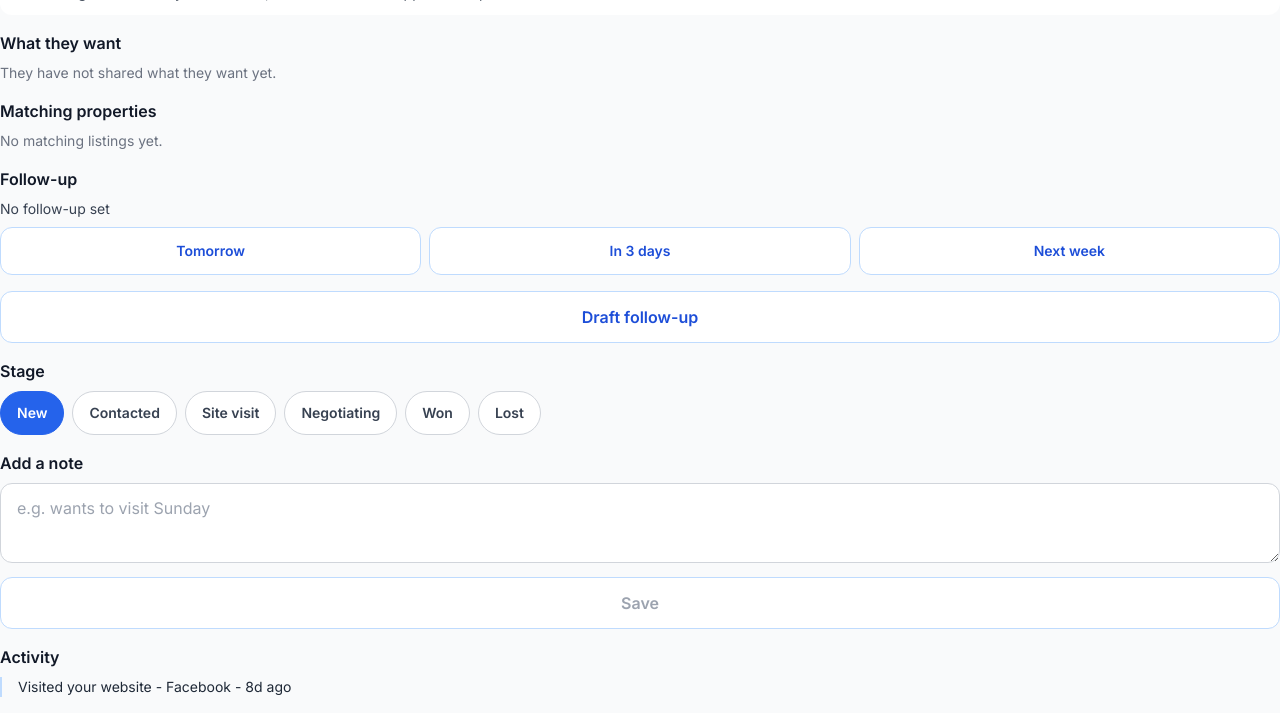
Test case: Why was it lost? sheet (stage Lost) › dismissing does not change the stage
This screenshot has width=1280, height=713.
(page scrolled)
Click the button "Lost". click: [509, 413]
box: [478,391,541,435]
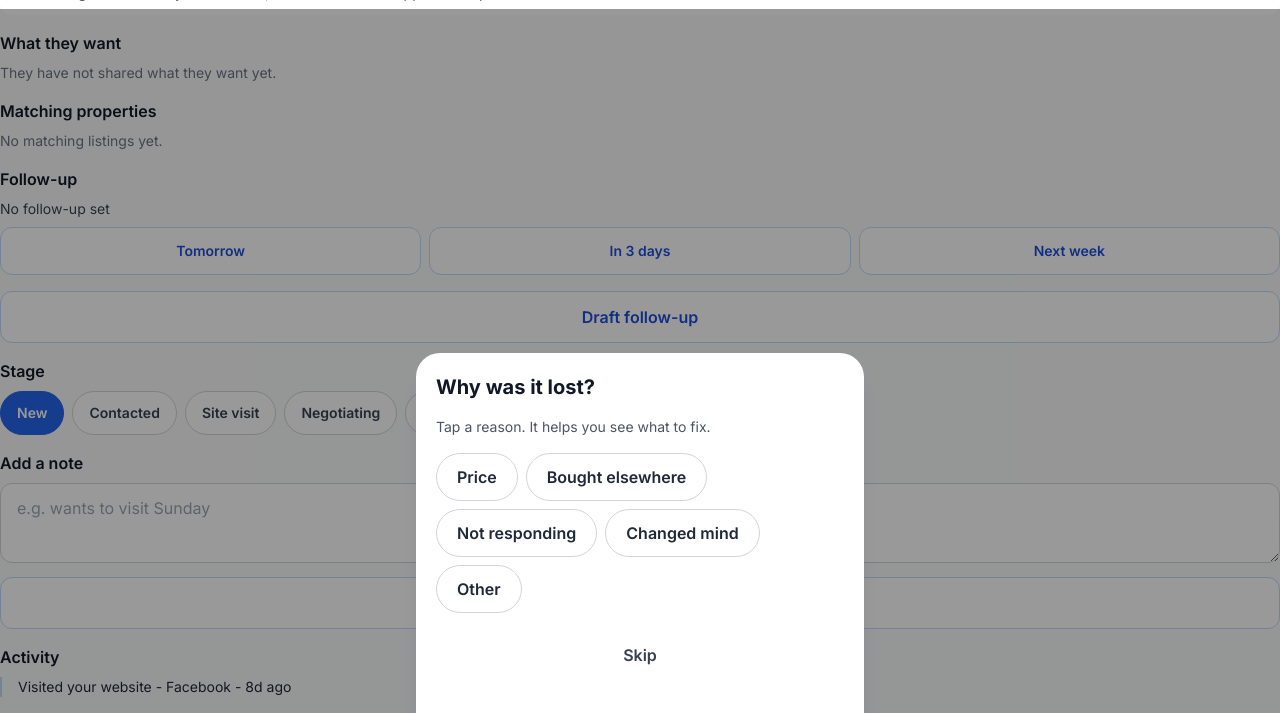
Click the button with test id "sheet-backdrop". click: [77, 361]
box: [0,9,1279,712]
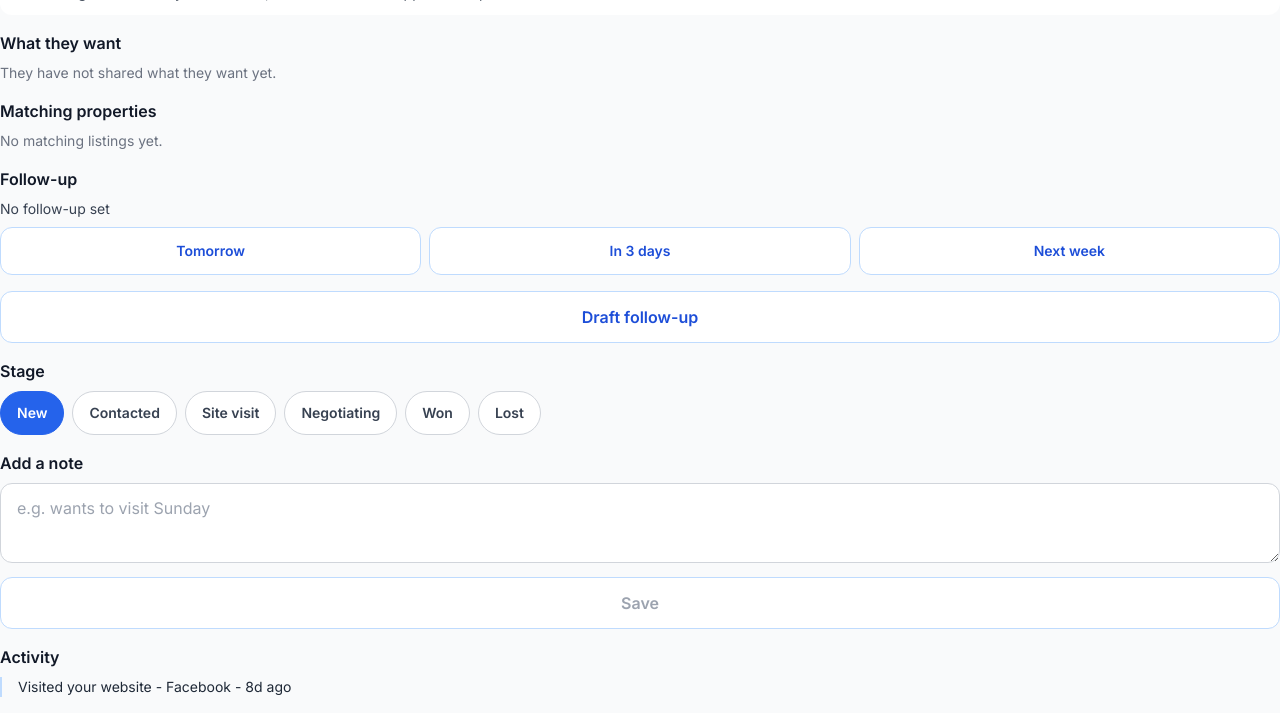
Check: the button "New" is shown, box [0,391,64,435]
Check: the dialog is gone
